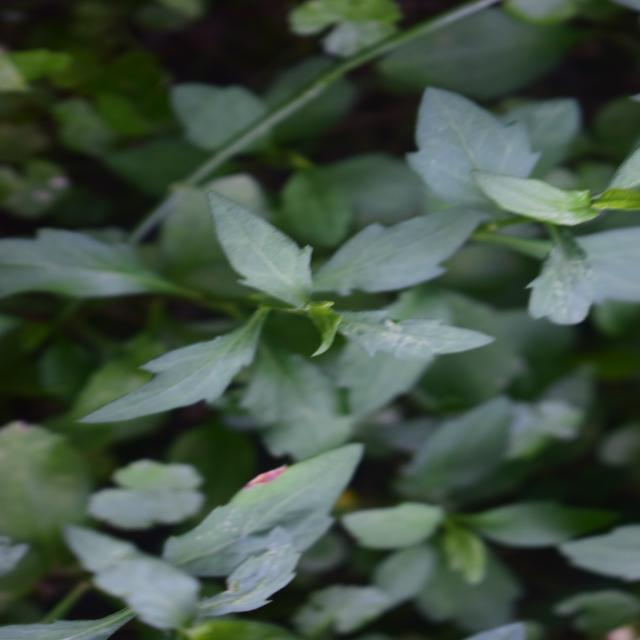Indian aster: (198, 145, 438, 541)
